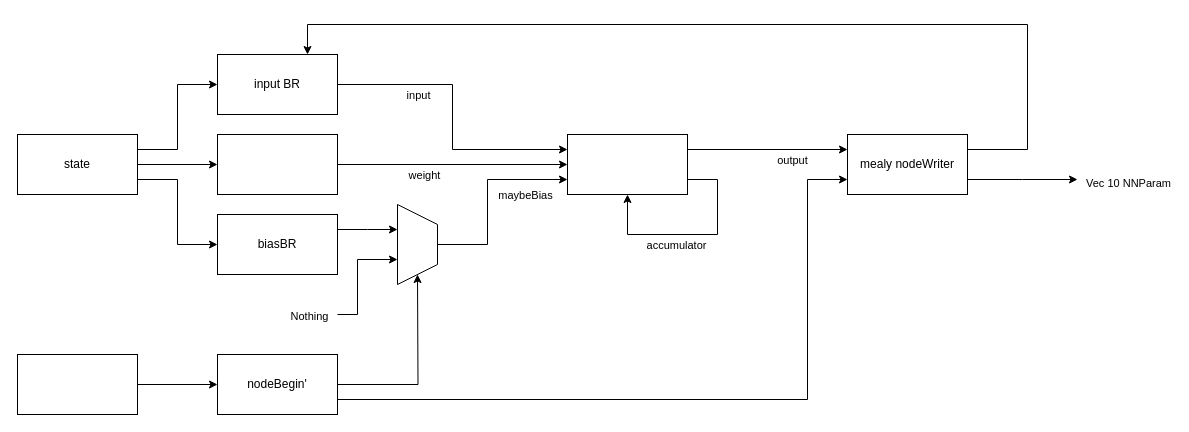
Image size: 1189x432. Some labels were removed from this diagram. The shapes that lost their labels are listed below. From the top down, each one's box as (x1, y1, x2, y2) in pixels, then its label:
(216, 134, 338, 194): weightBR
(566, 134, 688, 194): mealy MAC
(16, 354, 138, 414): nodeBegin
